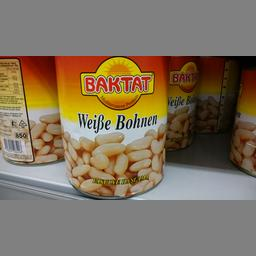beans: (54, 55, 167, 198), (0, 55, 53, 166), (198, 55, 236, 144)
